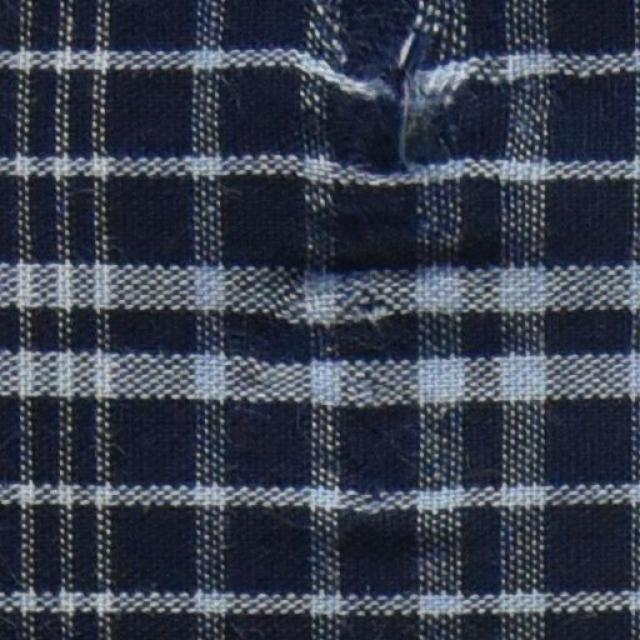Snag: (287, 2, 456, 224)
